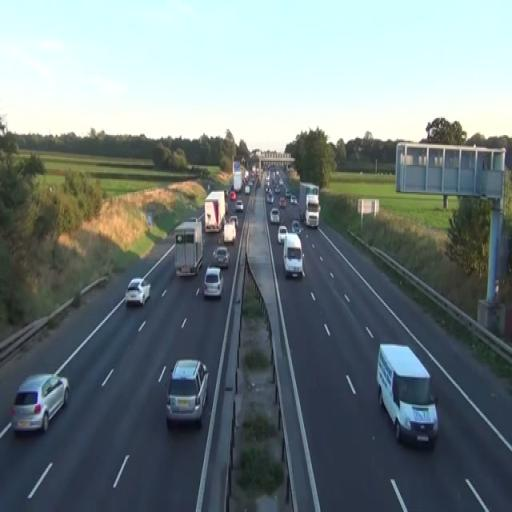Bus: (174, 219, 205, 277)
Car: (12, 373, 70, 435), (166, 359, 210, 429), (282, 232, 304, 280), (126, 278, 151, 308), (202, 267, 224, 299), (212, 246, 230, 269), (278, 225, 288, 243), (270, 207, 280, 225)
Truck: (376, 344, 440, 450), (174, 218, 205, 277), (299, 182, 321, 229), (204, 191, 226, 233)
